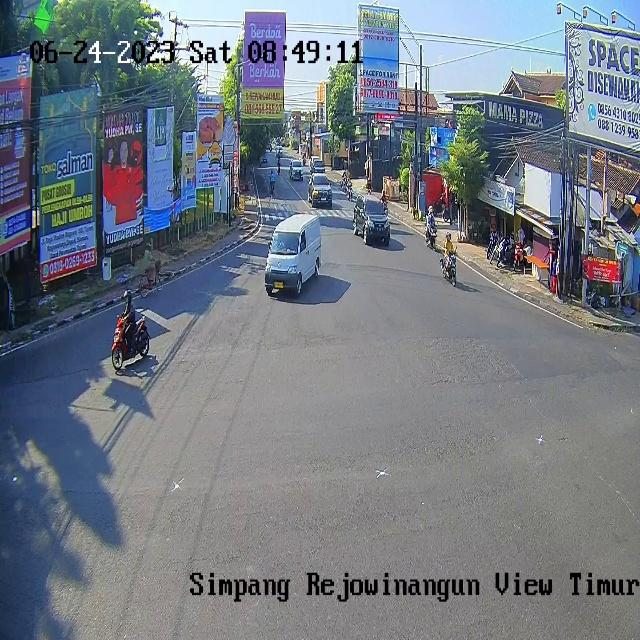bus: (112, 316, 149, 370), (440, 250, 456, 286), (425, 223, 437, 251), (383, 199, 388, 210)
motorcycle: (265, 215, 320, 296), (354, 194, 391, 243), (308, 172, 332, 205), (290, 160, 304, 180), (310, 160, 325, 172)
